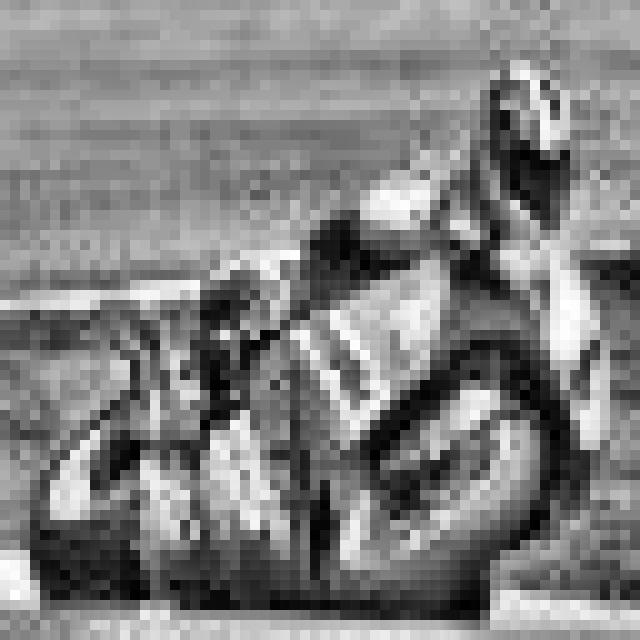mopeds: (44, 213, 613, 632)
